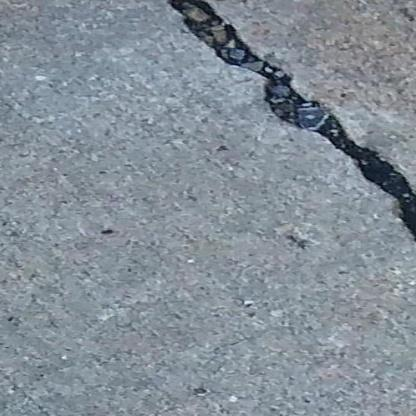Cracks: (156, 0, 416, 257)
